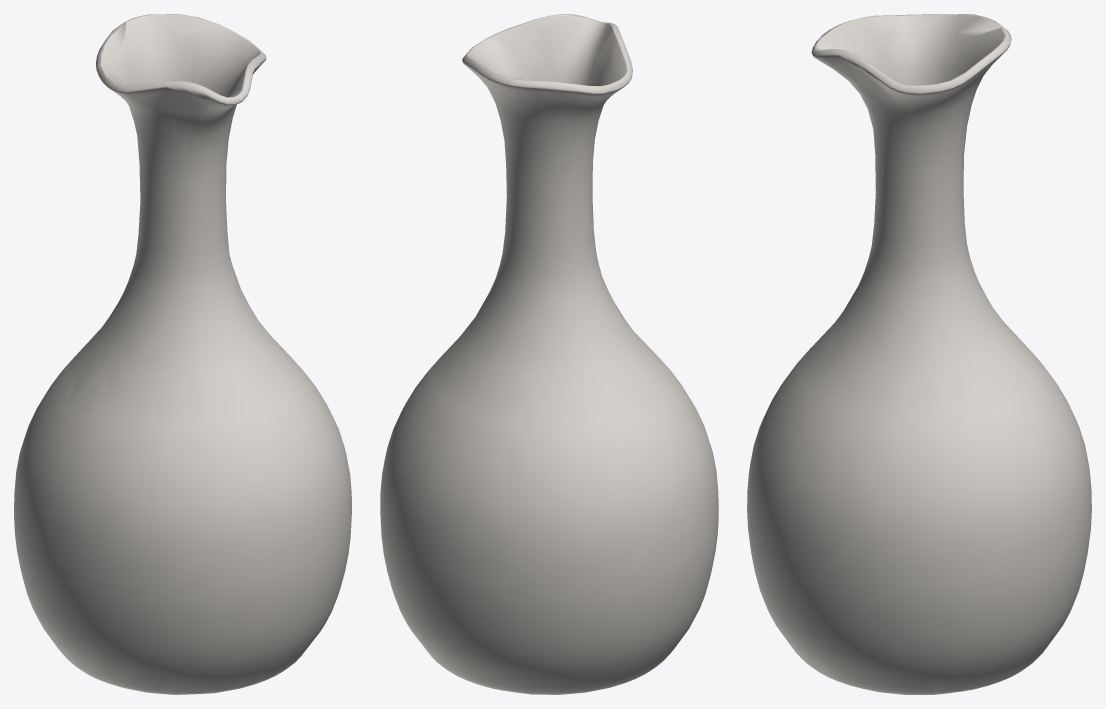
Rendered from vaso-branco.glb.
3 views of the same model, side by side, from view 1: azimuth 30°, elevation 25°; view 2: azimuth 150°, elevation 25°; view 3: azimuth 270°, elevation 25° (orthographic).
Parts seen in each view (by area): view 1: ceramic_vase_01; view 2: ceramic_vase_01; view 3: ceramic_vase_01.
Boxes of the visible parts, <box> form: ceramic_vase_01: <box>14,14,351,694</box>; ceramic_vase_01: <box>380,14,718,694</box>; ceramic_vase_01: <box>747,14,1091,694</box>.
Size of the model in its own units: 0.2036 by 0.4003 by 0.2036.
1 material, 1 textured.
